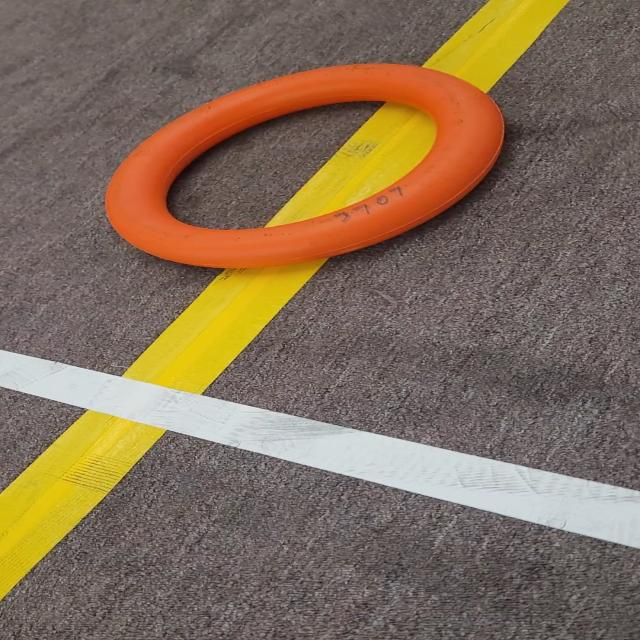note: (93, 58, 523, 281)
